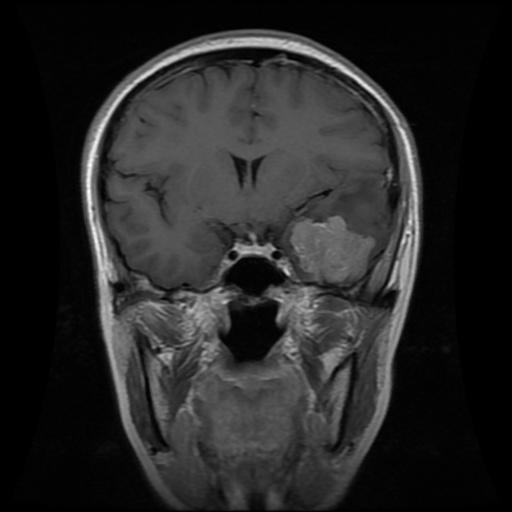meningioma: (291, 214, 375, 284)
